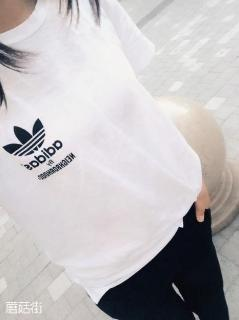short sleeve top: (0, 0, 203, 305)
trousers: (71, 160, 230, 319)
